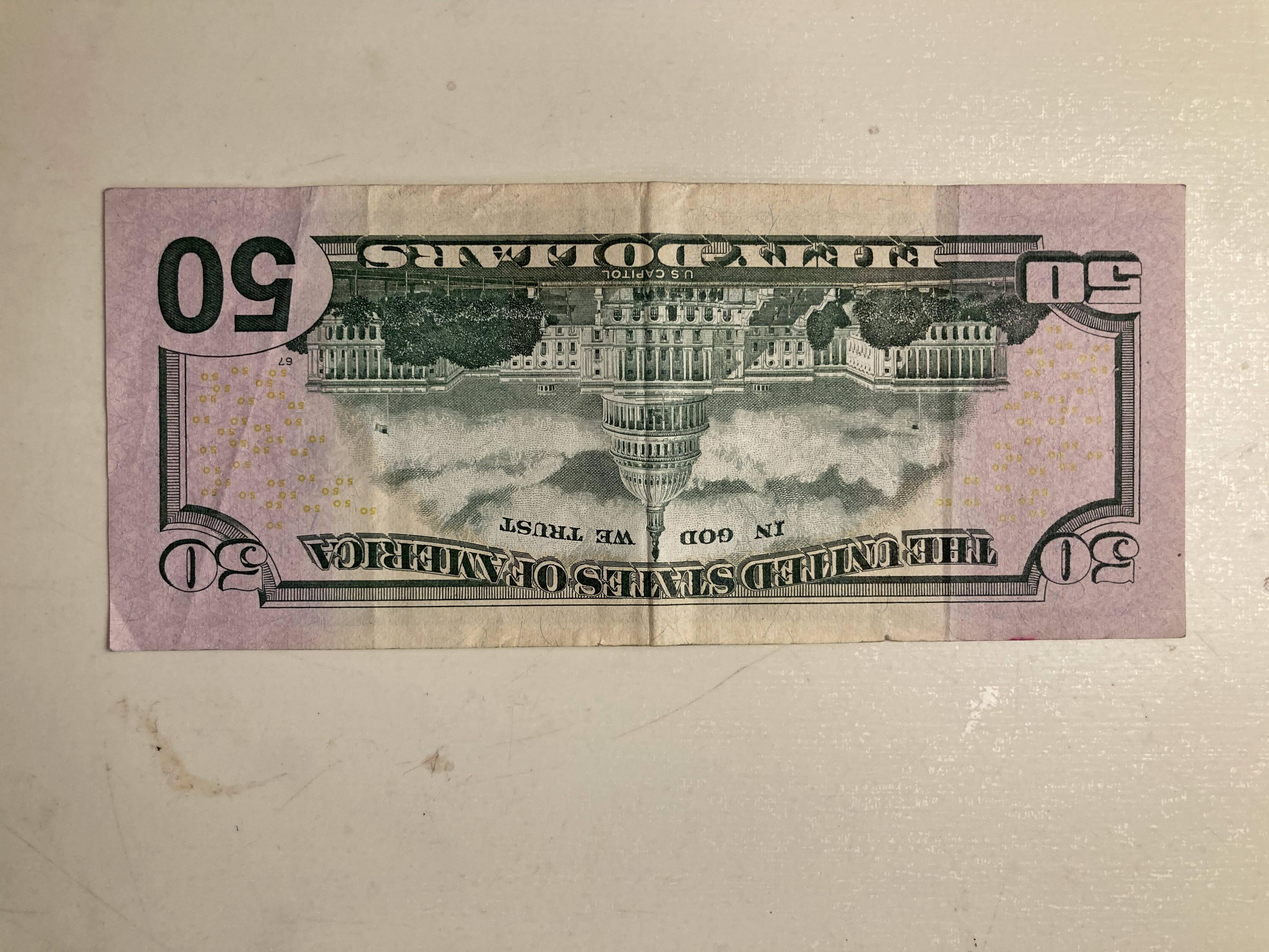fifty-back: (101, 182, 1186, 652)
